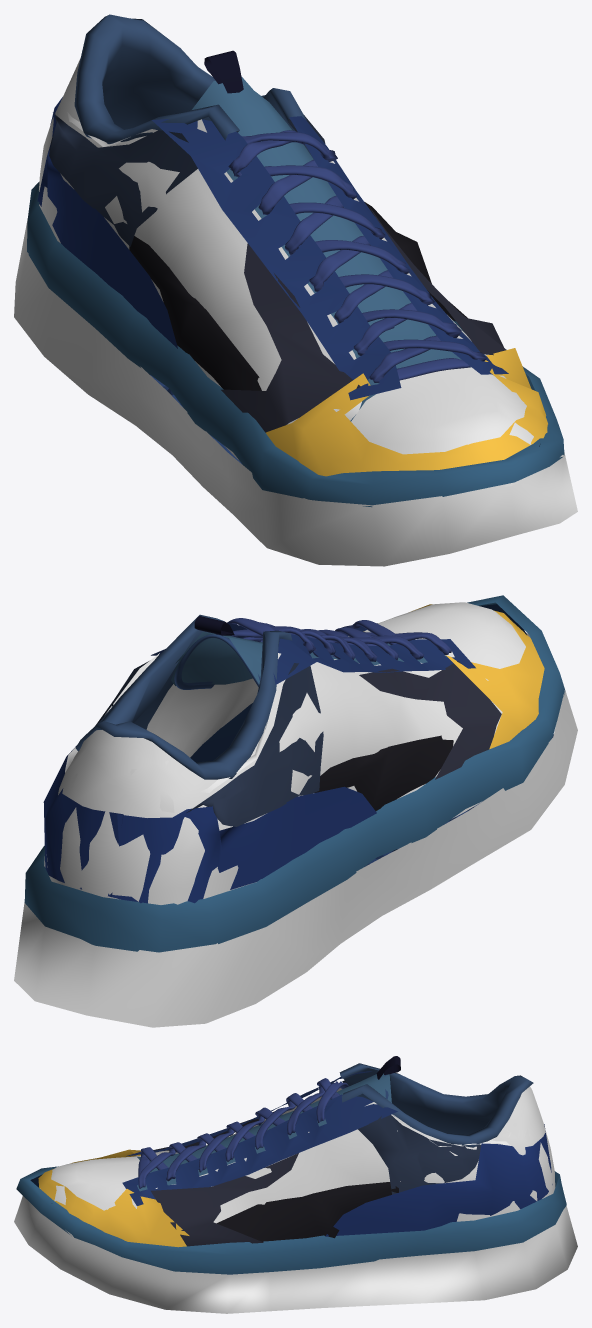
Rendered from Looney.glb.
3 views of the same model, one above another, from view 1: azimuth 30°, elevation 25°; view 2: azimuth 150°, elevation 25°; view 3: azimuth 270°, elevation 25° (orthographic). The views are drawn at different scales.
Visible parts, largest first — view 1: Base.001, smallsole2, Completebody, Plane.011, Plane.001, Plane.009 shoelace, Toe1, Toe2, Middle, Plane.008 line 2.007, Plane.008 line 2.001, Plane.008 line 2.004 (+5 smaller); view 2: Base.001, Completebody, smallsole2, Plane.008 line 2.004, Plane.001, Plane.008 line 2.001, Plane.008 line 2.007, Toe2, Plane.008 line 2.006, Body1, Toe1, Plane.011 (+6 smaller); view 3: Base.001, smallsole2, Completebody, Plane.008 line 2.005, Plane.001, Plane.010, Plane.008 line 2.008, Plane.008 line 2.003, Plane.008 line 2.009, Toe1, Plane.009 shoelace, Toe2 (+2 smaller).
Boxes of the visible parts, x1=… form: Base.001: x1=14, y1=219, x2=577, y2=566; smallsole2: x1=27, y1=182, x2=564, y2=507; Completebody: x1=39, y1=58, x2=506, y2=424; Plane.011: x1=152, y1=119, x2=401, y2=400; Plane.001: x1=74, y1=14, x2=312, y2=157; Plane.009 shoelace: x1=228, y1=130, x2=486, y2=383; Toe1: x1=266, y1=348, x2=547, y2=476; Toe2: x1=351, y1=367, x2=533, y2=454; Middle: x1=192, y1=76, x2=492, y2=421; Plane.008 line 2.007: x1=221, y1=243, x2=360, y2=432; Plane.008 line 2.001: x1=49, y1=113, x2=197, y2=246; Plane.008 line 2.004: x1=37, y1=97, x2=177, y2=348; Base.001: x1=14, y1=632, x2=577, y2=1027; Completebody: x1=44, y1=653, x2=502, y2=904; smallsole2: x1=24, y1=595, x2=565, y2=952; Plane.008 line 2.004: x1=108, y1=786, x2=376, y2=903; Plane.001: x1=75, y1=614, x2=292, y2=779; Plane.008 line 2.001: x1=186, y1=663, x2=323, y2=826; Plane.008 line 2.007: x1=359, y1=660, x2=501, y2=779; Toe2: x1=348, y1=602, x2=525, y2=668; Plane.008 line 2.006: x1=314, y1=735, x2=453, y2=810; Body1: x1=146, y1=678, x2=258, y2=757; Toe1: x1=363, y1=604, x2=544, y2=749; Plane.011: x1=273, y1=634, x2=475, y2=684; Base.001: x1=14, y1=1196, x2=577, y2=1313; smallsole2: x1=16, y1=1166, x2=566, y2=1274; Completebody: x1=131, y1=1086, x2=555, y2=1223; Plane.008 line 2.005: x1=325, y1=1131, x2=552, y2=1236; Plane.001: x1=339, y1=1063, x2=533, y2=1147; Plane.010: x1=122, y1=1094, x2=397, y2=1205; Plane.008 line 2.008: x1=216, y1=1182, x2=398, y2=1241; Plane.008 line 2.003: x1=358, y1=1115, x2=481, y2=1194; Plane.008 line 2.009: x1=151, y1=1153, x2=298, y2=1246; Toe1: x1=38, y1=1149, x2=189, y2=1247; Plane.009 shoelace: x1=138, y1=1078, x2=348, y2=1188; Toe2: x1=40, y1=1156, x2=139, y2=1210.
Size of the model in its own units: 1.63 by 1.72 by 4.24.
